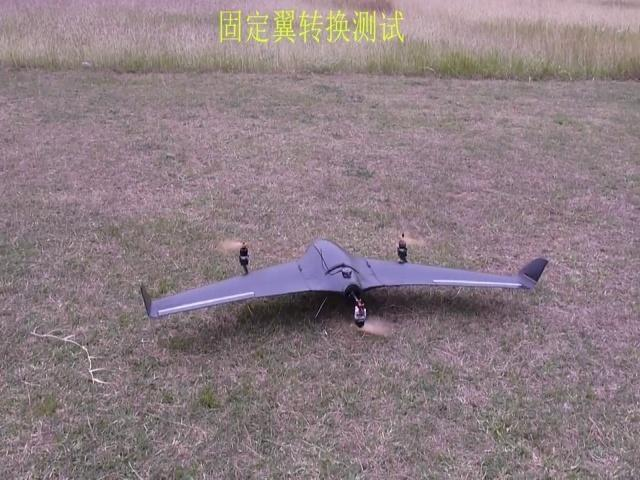Airplane: (140, 238, 548, 336)
